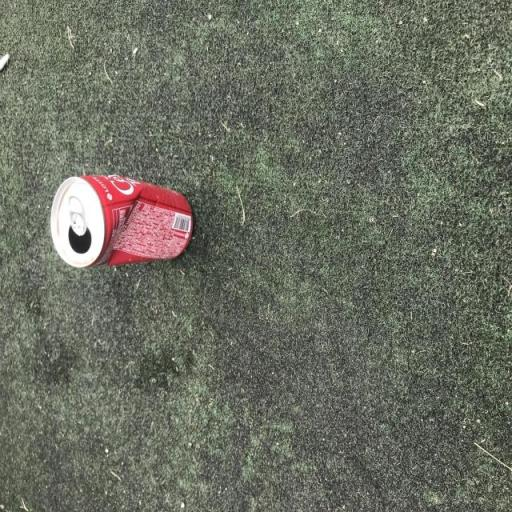metal: (24, 123, 214, 322)
